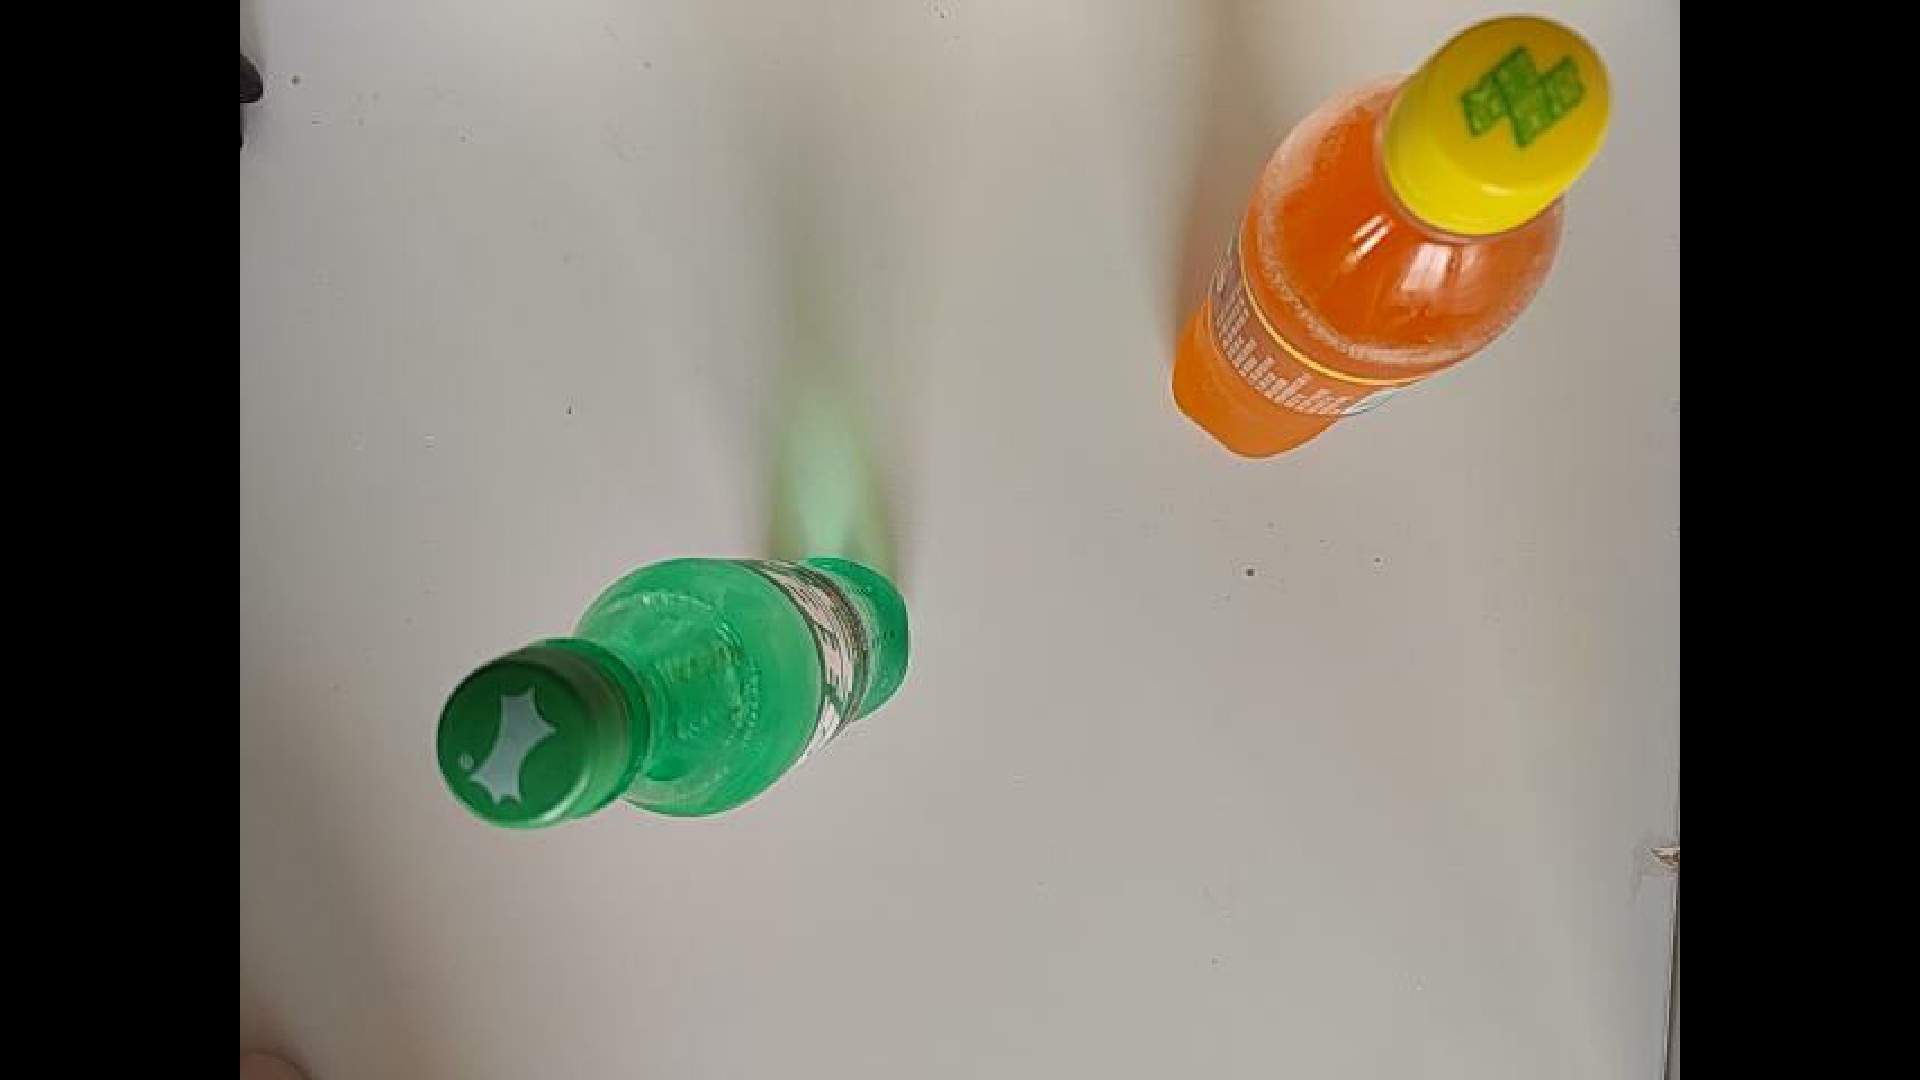fenta: (1168, 15, 1615, 463)
sprite: (434, 554, 911, 831)
